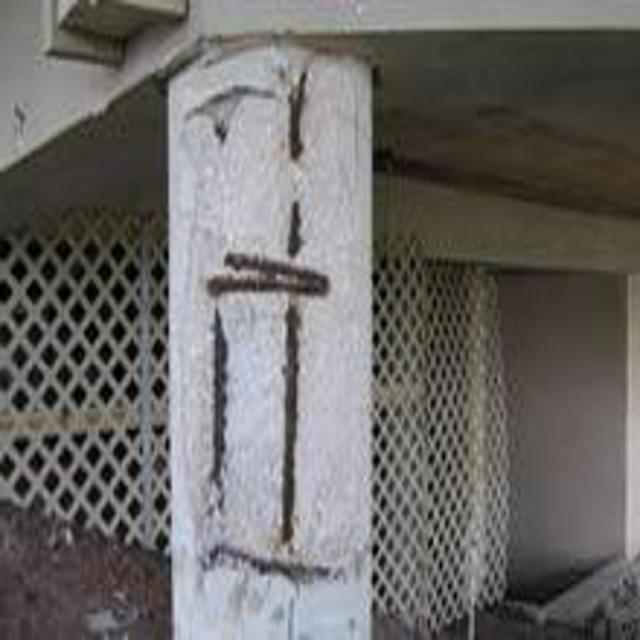spalling: (167, 56, 377, 577)
